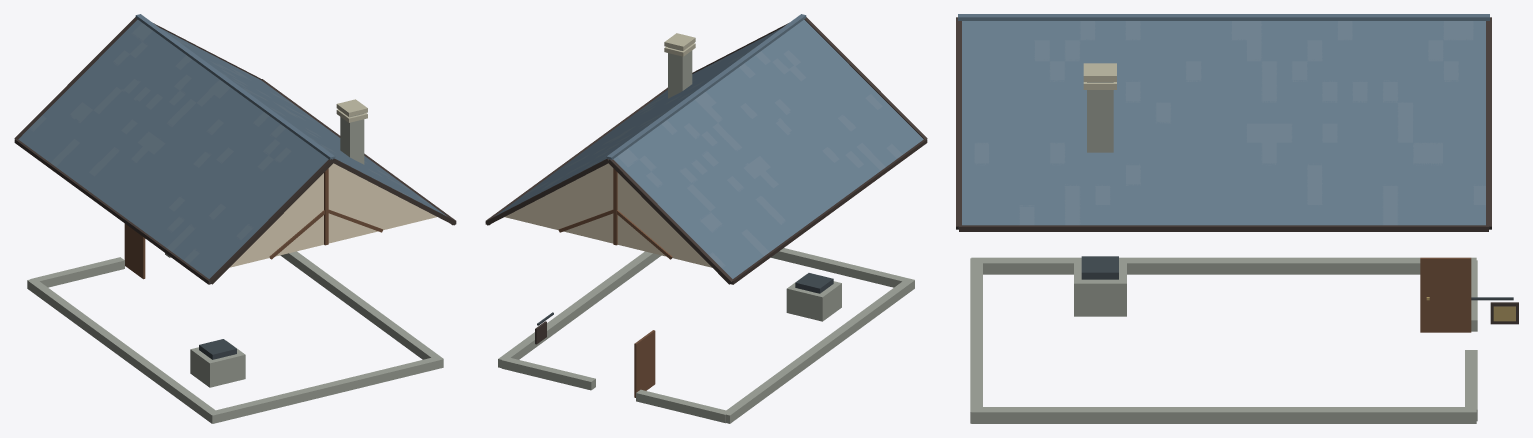
Rendered from SM_Smithy_Details.glb.
3 renders of one model, left to right at view 1: azimuth 30°, elevation 25°; view 2: azimuth 150°, elevation 25°; view 3: azimuth 270°, elevation 25°, orthographic. The views are drawn at different scales.
Parts seen in each view (by area): view 1: SM_Smithy_Details; view 2: SM_Smithy_Details; view 3: SM_Smithy_Details.
Part boxes in pixels (x1=…): SM_Smithy_Details: x1=14, y1=14, x2=456, y2=423; SM_Smithy_Details: x1=485, y1=14, x2=927, y2=423; SM_Smithy_Details: x1=956, y1=14, x2=1518, y2=423.
Bounding box in the file's own units: 11.06 × 10.34 × 15.93.
